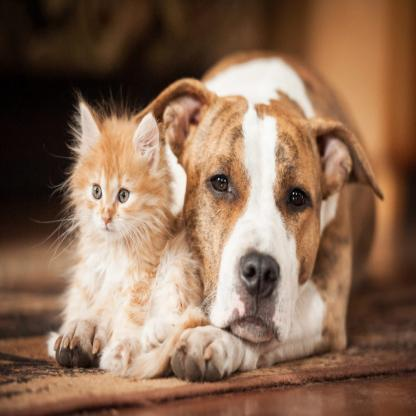cat: (64, 85, 190, 284)
dog: (185, 63, 388, 344)
